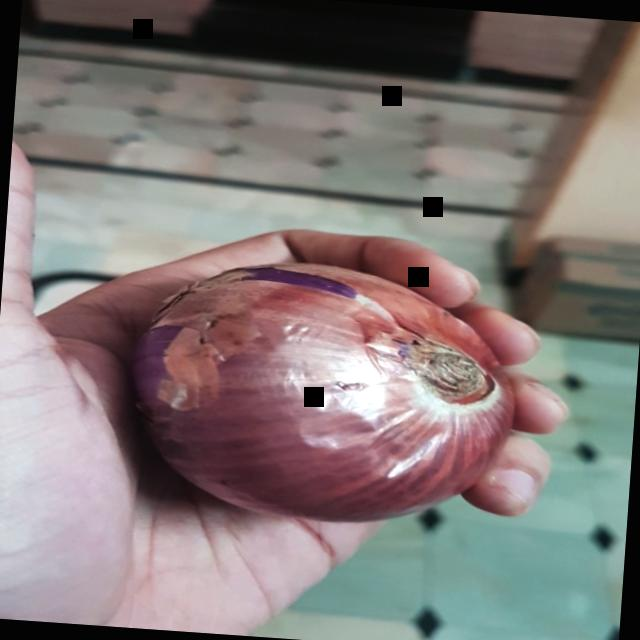onion: (99, 247, 548, 542)
